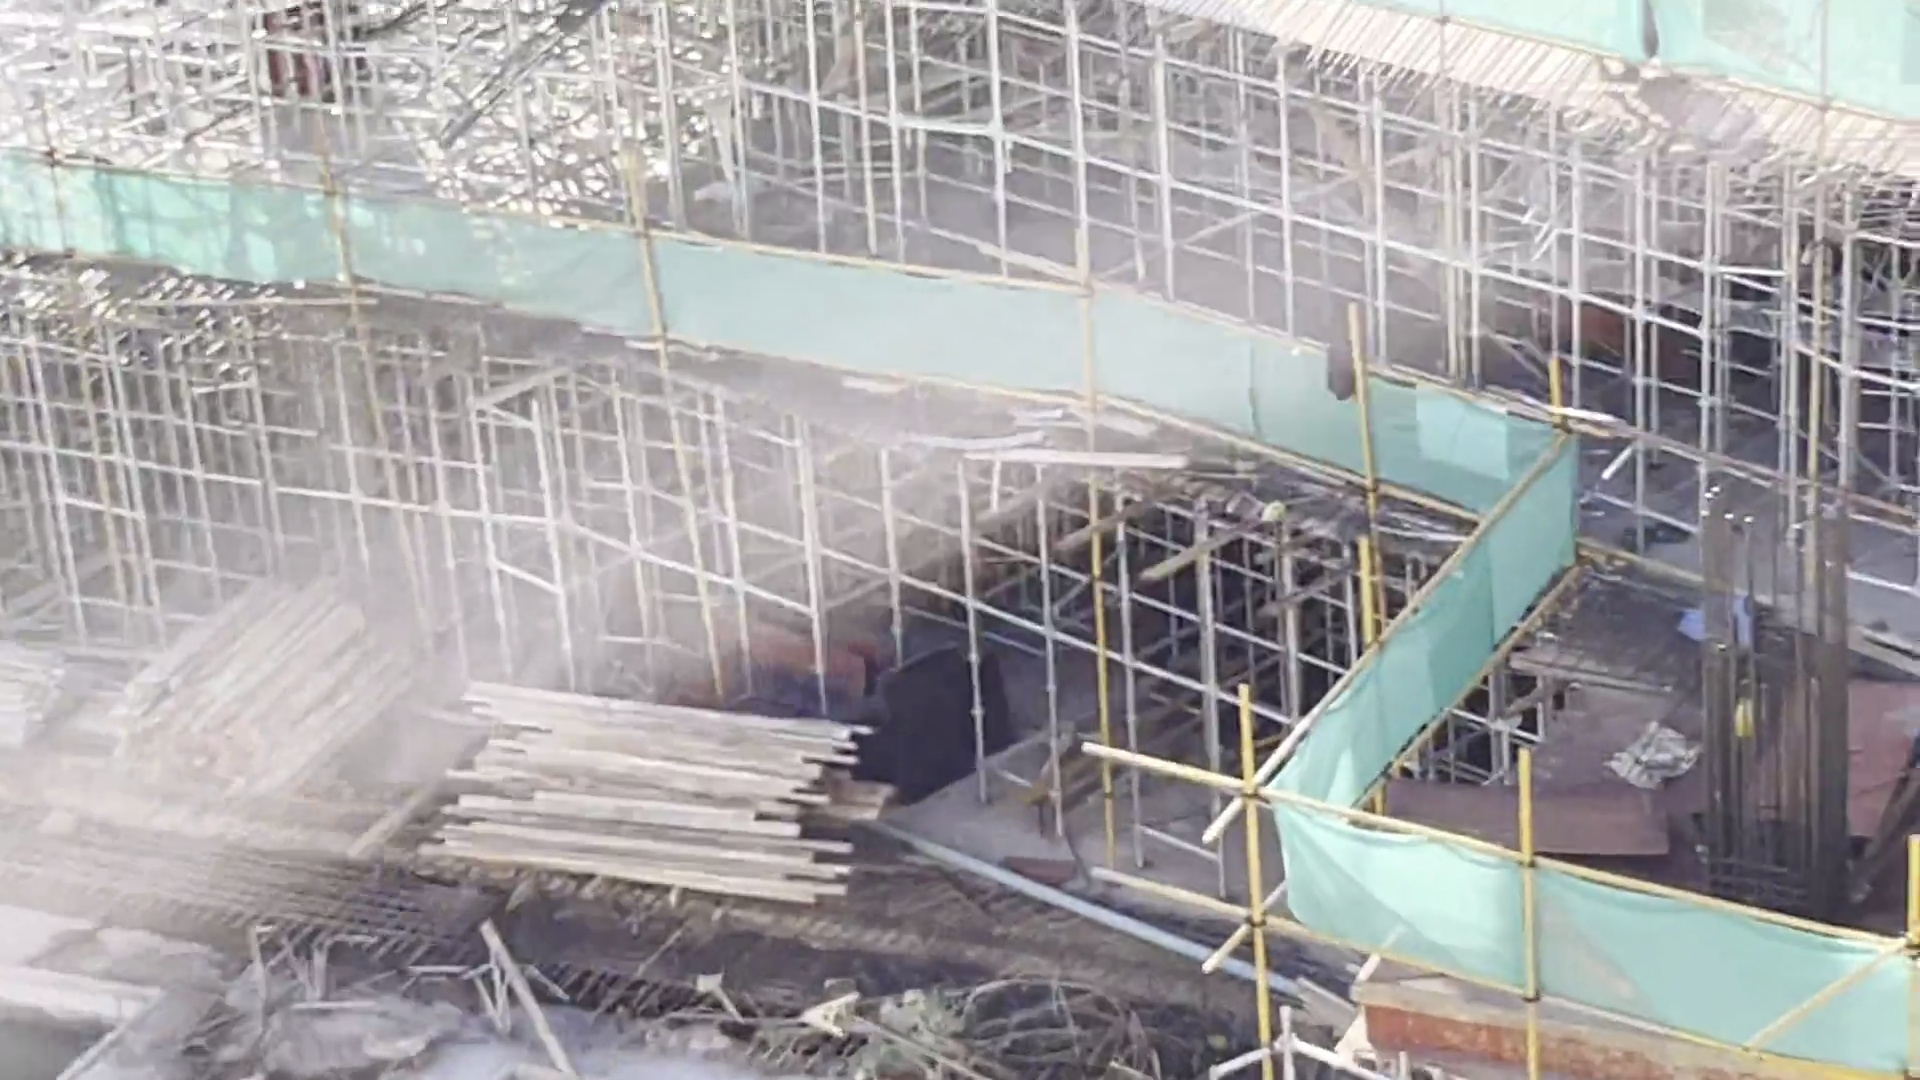wood: (414, 669, 897, 935), (117, 595, 400, 795)
